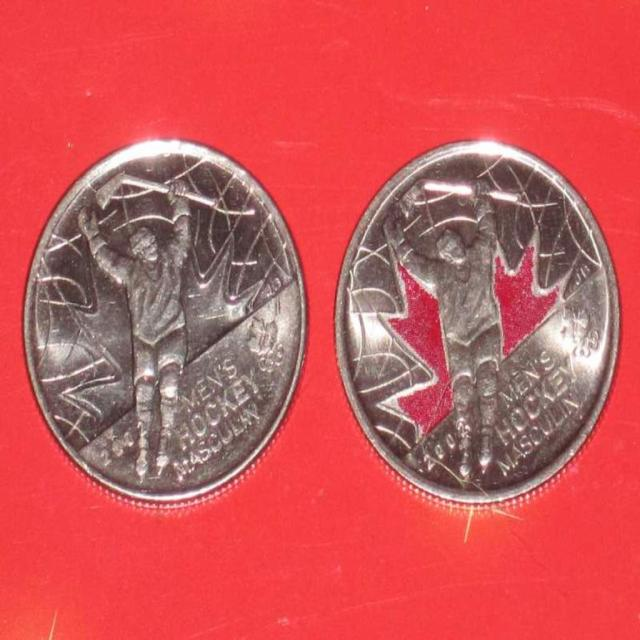Coin: (331, 133, 624, 505), (26, 139, 307, 507)
